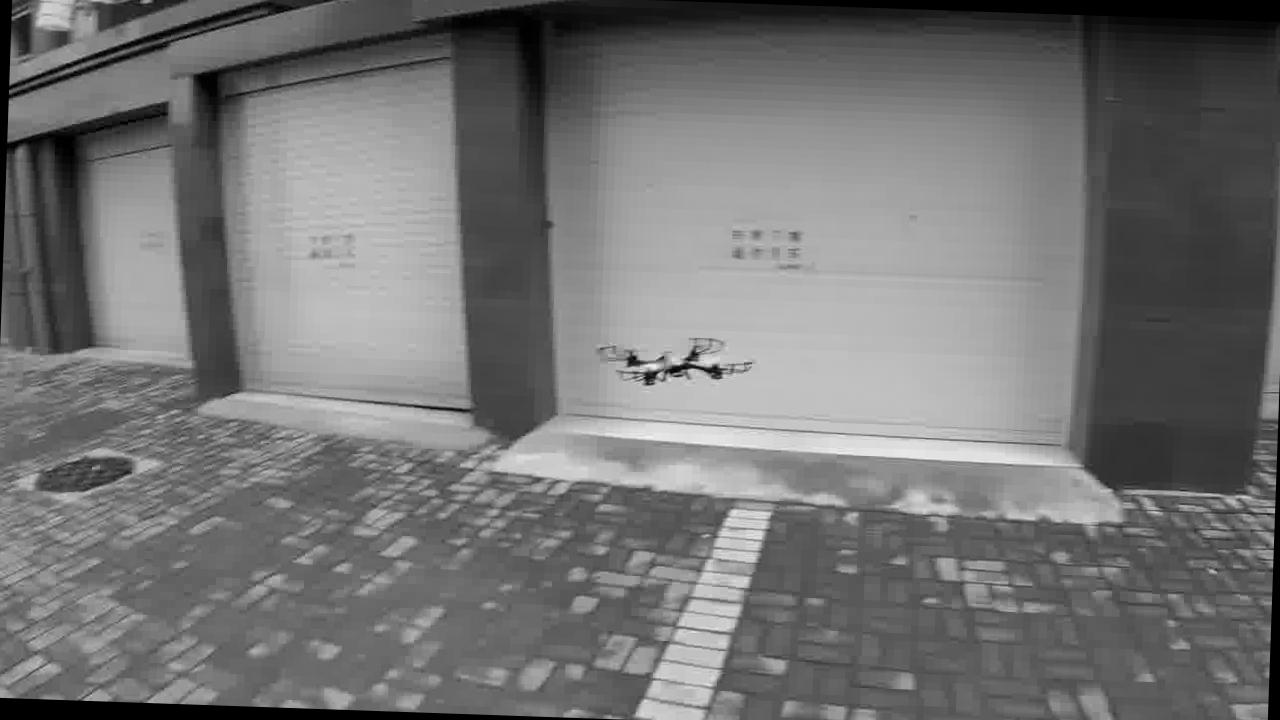drone: (580, 316, 768, 410)
